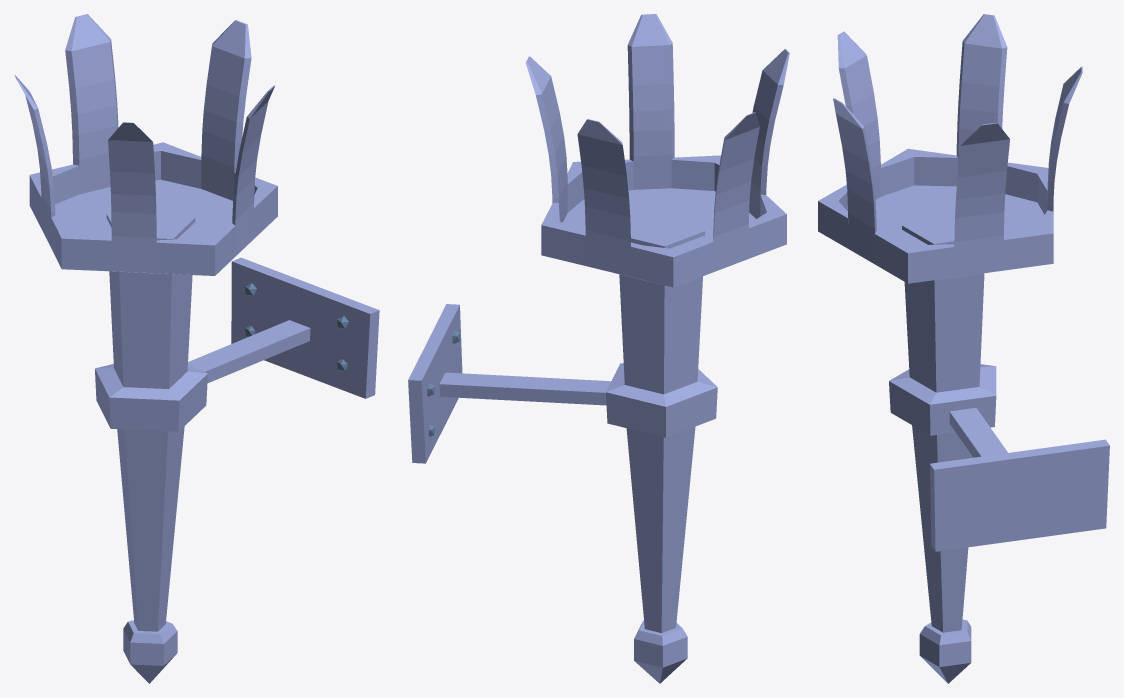
The model's file is CastleTorch01.fbx.
The picture shows the model from 3 angles, left to right: view 1: azimuth 30°, elevation 25°; view 2: azimuth 150°, elevation 25°; view 3: azimuth 270°, elevation 25°; orthographic projection.
Visible parts, largest first — view 1: Icosphere.003; view 2: Icosphere.003; view 3: Icosphere.003.
Boxes of the visible parts, x1,y1,x2,y2 form: Icosphere.003: (14, 14, 379, 683); Icosphere.003: (408, 14, 789, 683); Icosphere.003: (818, 14, 1109, 683).
Size of the model in its own units: 83.93 by 147 by 63.27.
